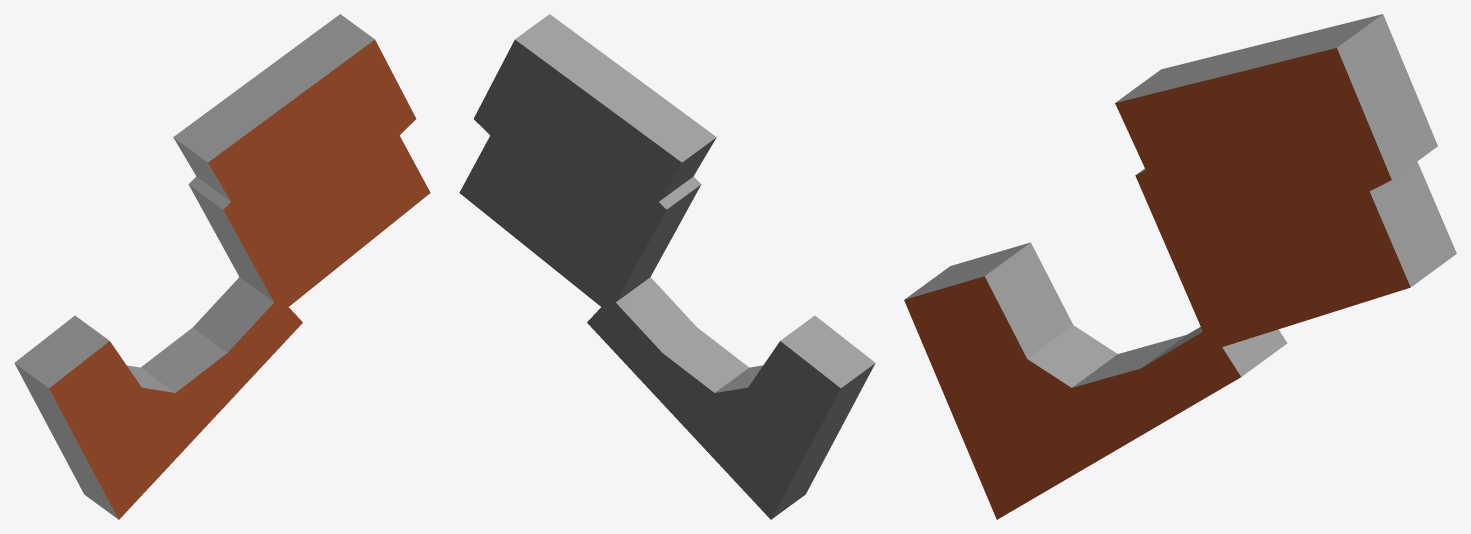
File: construction_0689_assumed_A_Casa_h6m.obj
3 views of the same model, side by side, from view 1: azimuth 30°, elevation 25°; view 2: azimuth 150°, elevation 25°; view 3: azimuth 330°, elevation 25° (orthographic). The views are drawn at different scales.
Parts seen in each view (by area): view 1: construction_0689_assumed_A_Casa; view 2: construction_0689_assumed_A_Casa; view 3: construction_0689_assumed_A_Casa.
Boxes of the visible parts, x1,y1,x2,y2 form: construction_0689_assumed_A_Casa: [14, 14, 430, 519]; construction_0689_assumed_A_Casa: [459, 14, 875, 519]; construction_0689_assumed_A_Casa: [904, 14, 1456, 519].
Size of the model in its own units: 38 by 39.78 by 6.
